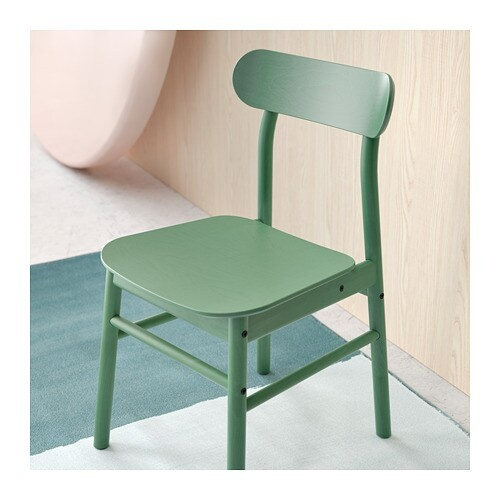obstacle: (94, 50, 393, 469)
